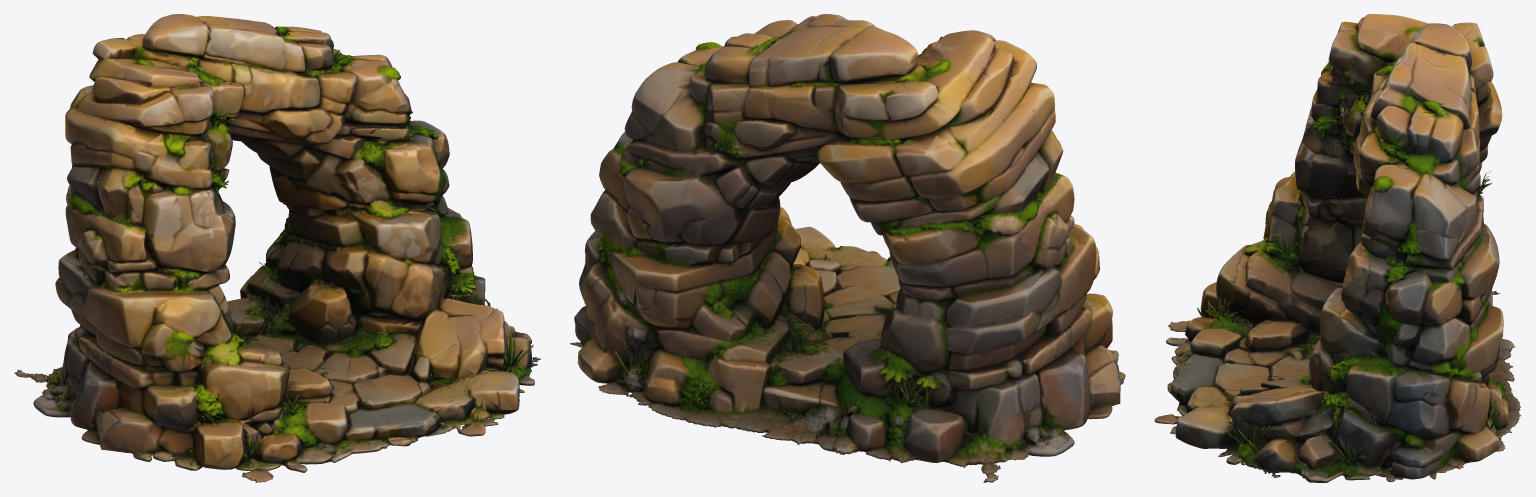
The model's file is Rocky_Archway.glb.
3 renders of one model, left to right at view 1: azimuth 30°, elevation 25°; view 2: azimuth 150°, elevation 25°; view 3: azimuth 270°, elevation 25°, orthographic. The views are drawn at different scales.
Visible parts, largest first — view 1: Rocky_Archway; view 2: Rocky_Archway; view 3: Rocky_Archway.
Part boxes in pixels (left/top/right/bottom): Rocky_Archway: left=14, top=14, right=540, bottom=482; Rocky_Archway: left=570, top=14, right=1125, bottom=482; Rocky_Archway: left=1154, top=14, right=1520, bottom=482.
Size of the model in its own units: 1.9 by 1.4 by 1.45.
Materials: 1 (1 with a texture image).
